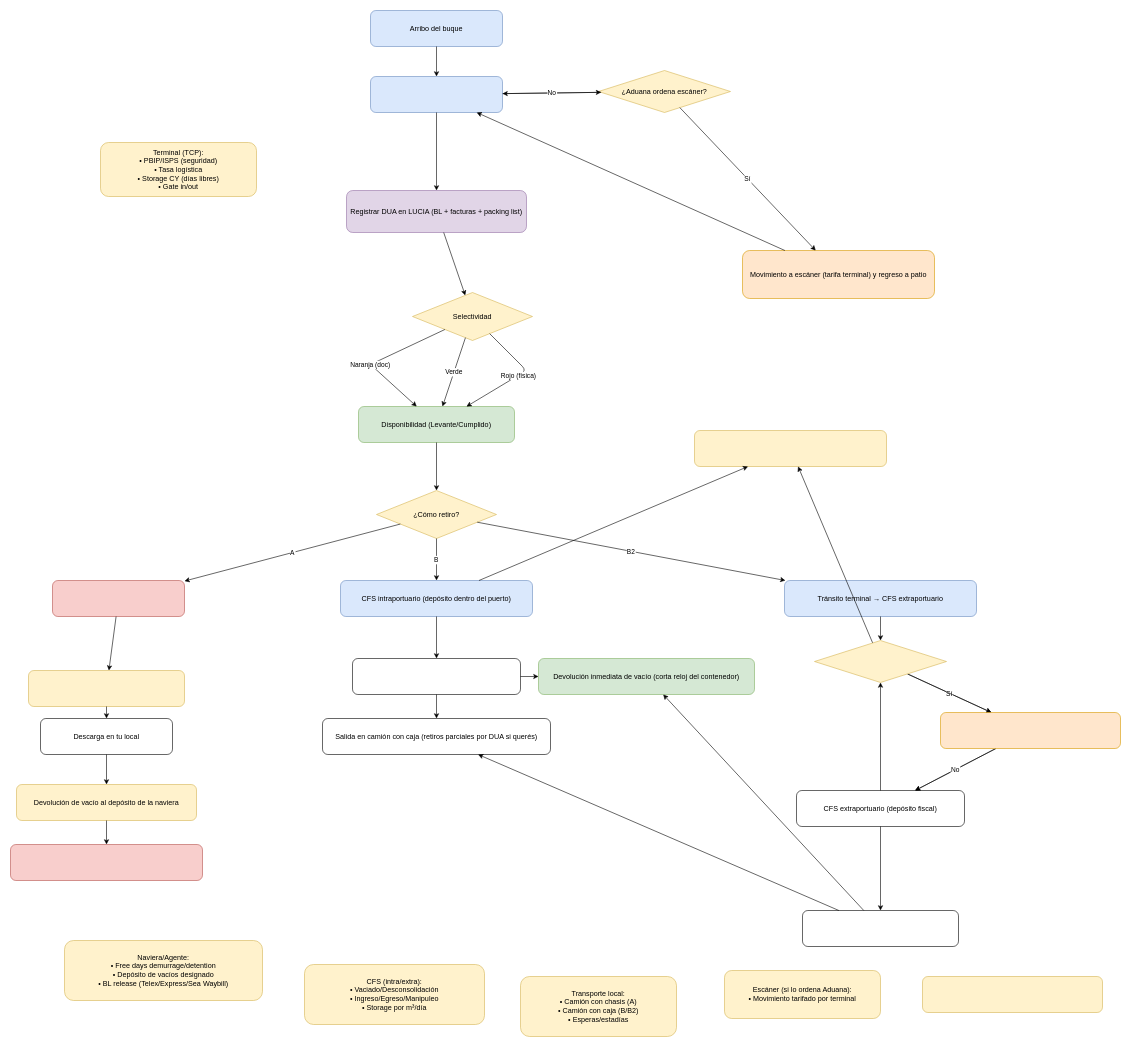
This 1131x1047 diagram has some shape labels left out. The shapes that lost their labels are listed below. From the top down, each one's centre as x and y in pixels, then its label:
the point at 436,94: Descarga a patio (CY) de TCP
the point at 790,448: Si algo demora: storage por m³/día en CFS
the point at 118,598: Gate-out contenedor
the point at 436,676: Destufado bajo control aduanero
the point at 880,661: ¿Precinto Electrónico (PE) requerido?
the point at 106,688: Camión con chasis → tu dirección
the point at 1030,730: Colocar/gestionar PE para tránsito interno
the point at 106,862: Riesgo: demurrage/detention si excedés free days
the point at 880,928: Destufado en CFS extraportuario
the point at 1012,994: Precinto Electrónico (si hay tránsito a extraportuario)
